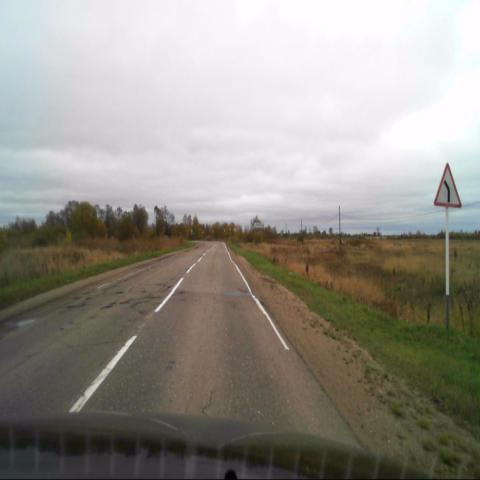1_11_1: (434, 162, 462, 208)
